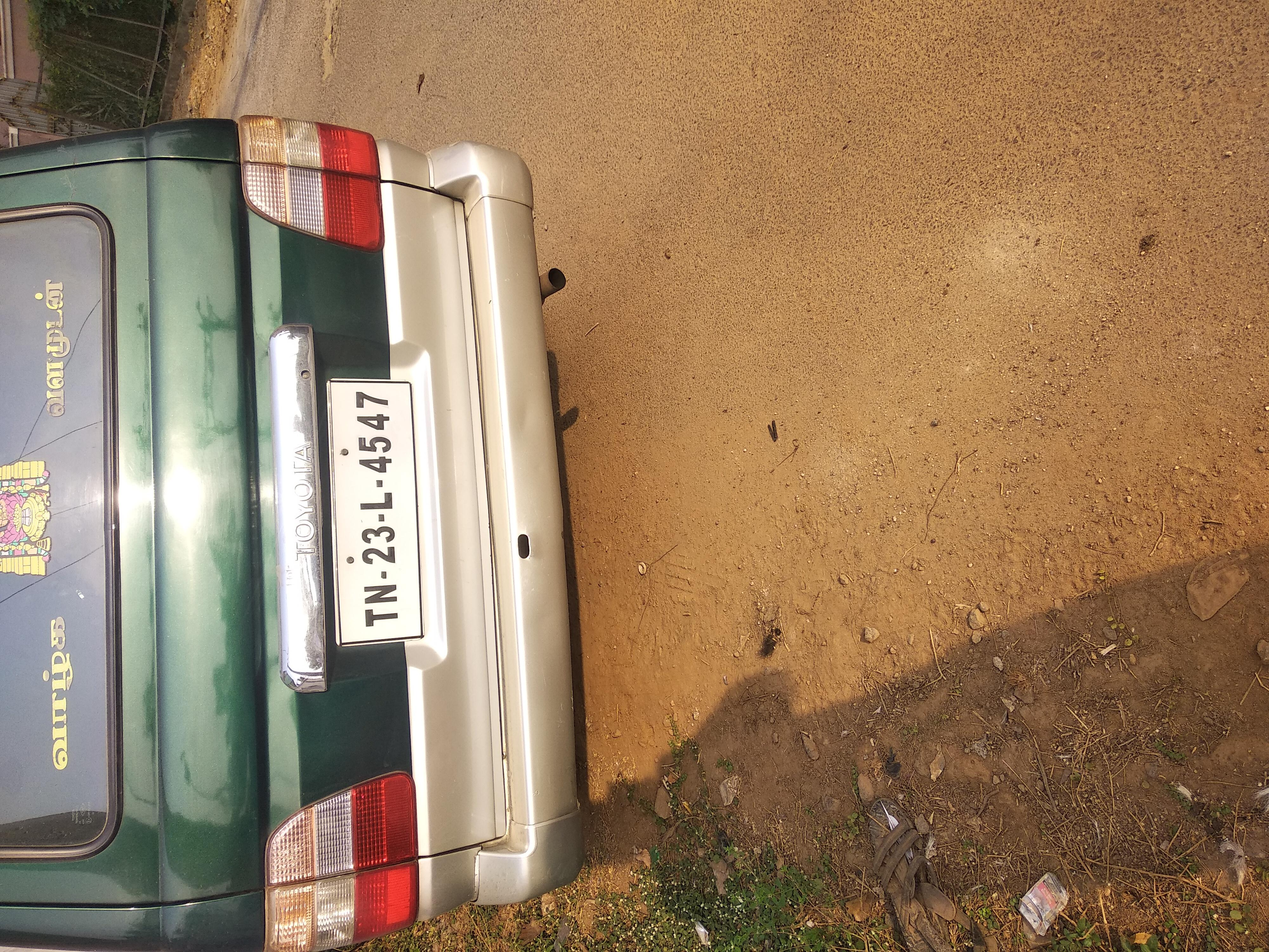number_platerotation: (399, 241, 772, 320)
